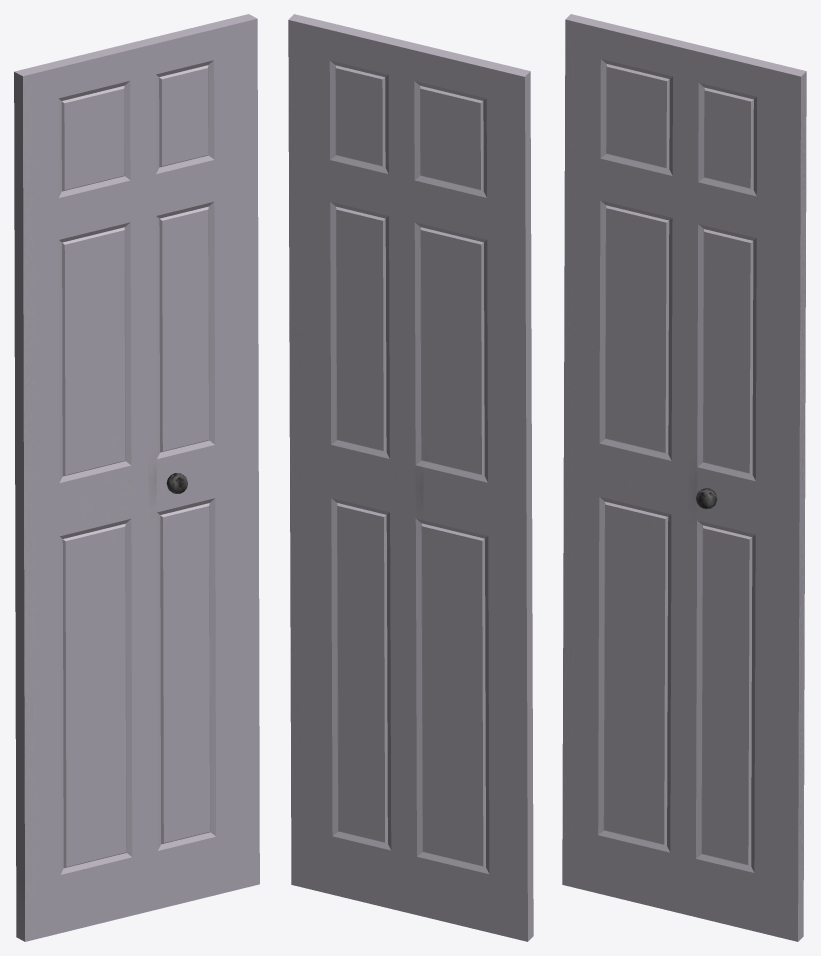
File: double_door_L.glb
3 renders of one model, left to right at view 1: azimuth 30°, elevation 25°; view 2: azimuth 150°, elevation 25°; view 3: azimuth 330°, elevation 25°, orthographic.
Visible parts, largest first — view 1: frl_apartment_door_06; view 2: frl_apartment_door_06; view 3: frl_apartment_door_06.
Boxes of the visible parts, x1,y1,x2,y2 form: frl_apartment_door_06: (14, 14, 259, 941); frl_apartment_door_06: (288, 14, 533, 941); frl_apartment_door_06: (562, 14, 806, 941).
Size of the model in its own units: 0.5933 by 2.06 by 0.0822.
Materials: 1 (1 with a texture image).
